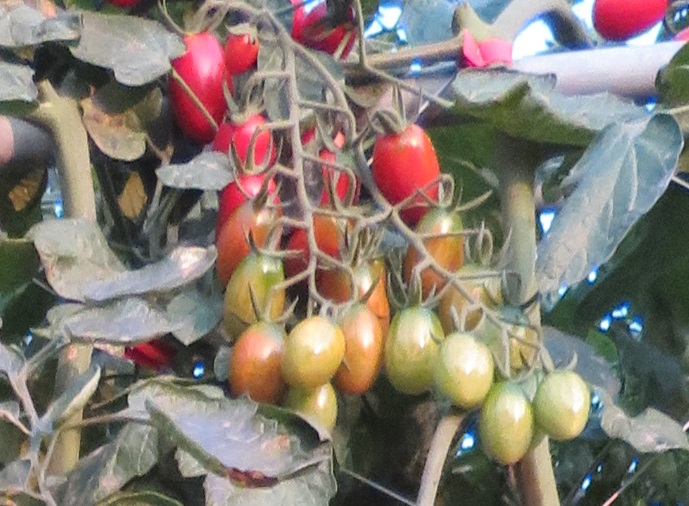green: (386, 298, 441, 400), (432, 323, 493, 413), (225, 249, 291, 326), (230, 318, 285, 401), (279, 316, 344, 385), (482, 381, 533, 466), (336, 301, 382, 391), (538, 364, 586, 443)
red: (169, 28, 231, 136), (376, 125, 443, 209)
